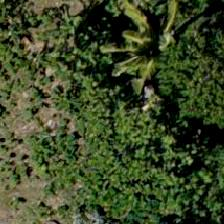Kelapa_Sawit: (108, 0, 198, 90)
